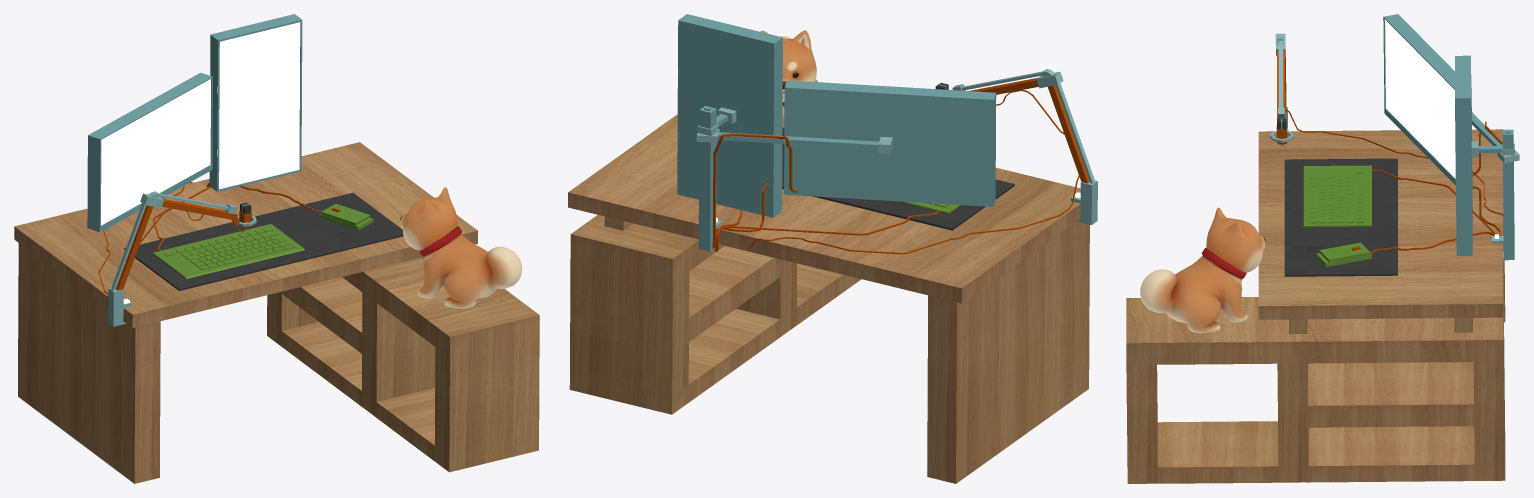
File: table.glb
The picture shows the model from 3 angles, left to right: view 1: azimuth 30°, elevation 25°; view 2: azimuth 150°, elevation 25°; view 3: azimuth 270°, elevation 25°; orthographic projection. The views are drawn at different scales.
Visible parts, largest first — view 1: Mesh_3, Mesh_1, Mesh_5, Box002, Mesh_2, Mesh_4, Mesh_0, Mesh_7; view 2: Mesh_3, Mesh_2, Mesh_0, Mesh_7, Mesh_5, Box002; view 3: Mesh_3, Mesh_5, Box002, Mesh_2, Mesh_1, Mesh_4, Mesh_0, Mesh_7.
Boxes of the visible parts, x1=… form: Mesh_3: x1=14, y1=142, x2=539, y2=483; Mesh_1: x1=101, y1=22, x2=300, y2=303; Mesh_5: x1=124, y1=192, x2=403, y2=290; Box002: x1=400, y1=187, x2=522, y2=308; Mesh_2: x1=87, y1=14, x2=302, y2=232; Mesh_4: x1=152, y1=203, x2=373, y2=278; Mesh_0: x1=98, y1=181, x2=339, y2=294; Mesh_7: x1=108, y1=191, x2=256, y2=326; Mesh_3: x1=568, y1=114, x2=1089, y2=483; Mesh_2: x1=677, y1=14, x2=996, y2=251; Mesh_0: x1=712, y1=78, x2=1089, y2=254; Mesh_7: x1=696, y1=69, x2=1097, y2=244; Mesh_5: x1=782, y1=83, x2=1014, y2=230; Box002: x1=760, y1=30, x2=817, y2=115; Mesh_3: x1=1126, y1=129, x2=1505, y2=483; Mesh_5: x1=1277, y1=118, x2=1397, y2=276; Box002: x1=1140, y1=207, x2=1265, y2=333; Mesh_2: x1=1281, y1=14, x2=1514, y2=260; Mesh_1: x1=1385, y1=19, x2=1498, y2=238; Mesh_4: x1=1302, y1=165, x2=1473, y2=266; Mesh_0: x1=1276, y1=50, x2=1503, y2=253; Mesh_7: x1=1270, y1=33, x2=1519, y2=260.
Size of the model in its own units: 5.63 by 5.06 by 5.21.
9 materials, 3 textured.
